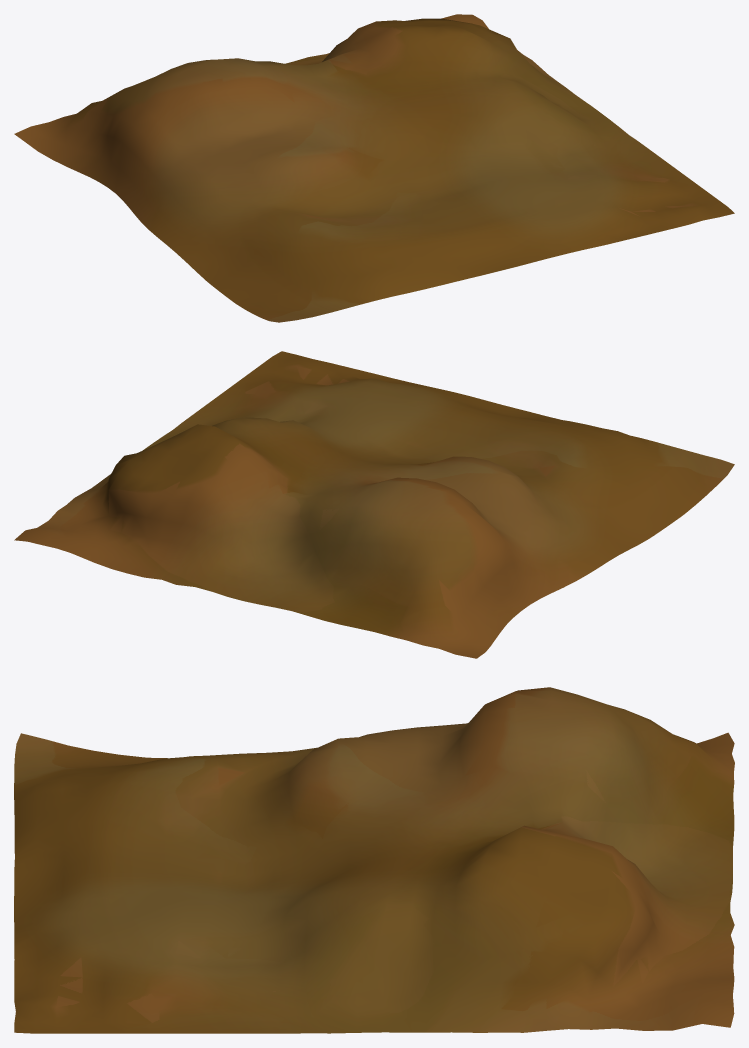
File: field_wip.glb
The picture shows the model from 3 angles, top to bottom: view 1: azimuth 30°, elevation 25°; view 2: azimuth 150°, elevation 25°; view 3: azimuth 270°, elevation 25°; orthographic projection. The views are drawn at different scales.
Parts seen in each view (by area): view 1: field; view 2: field; view 3: field.
Boxes of the visible parts, box(x1,y1,x2,y2) form: field: box(14, 14, 734, 322); field: box(14, 351, 734, 658); field: box(14, 687, 734, 1033).
Bounding box in the file's own units: 84.92 × 17.43 × 85.11.
Materials: 1 (1 with a texture image).
